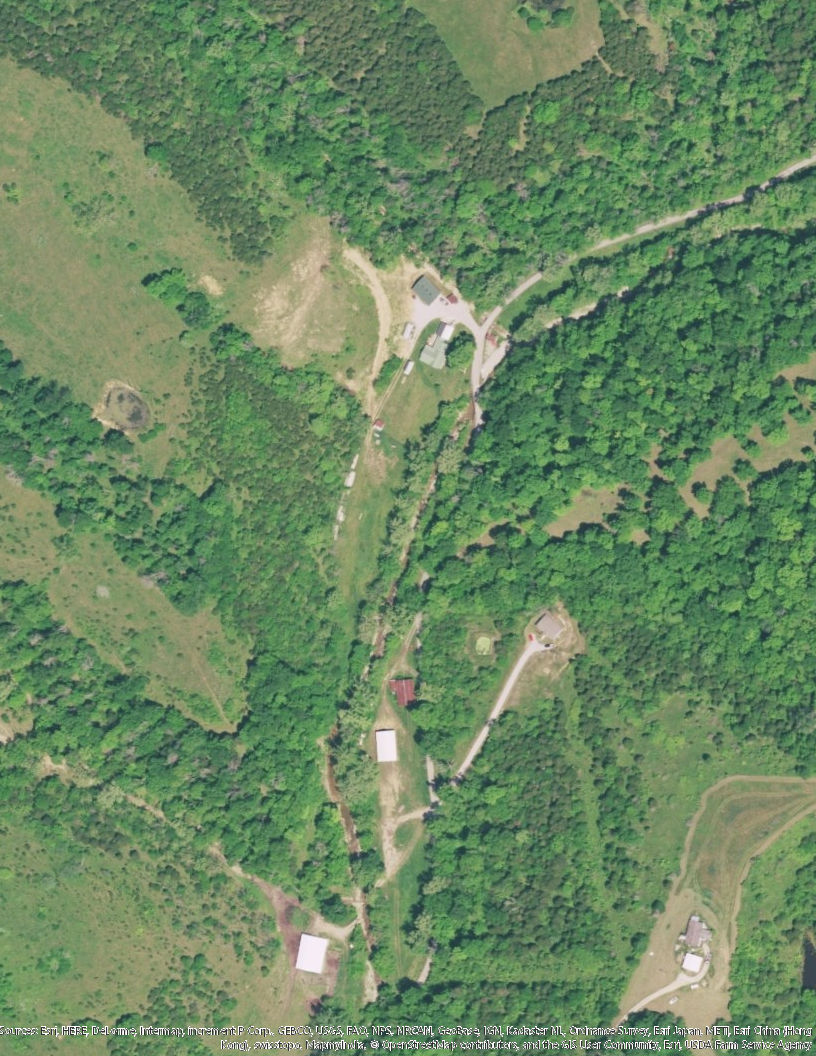cafo: (296, 933, 328, 975), (373, 726, 401, 764)
